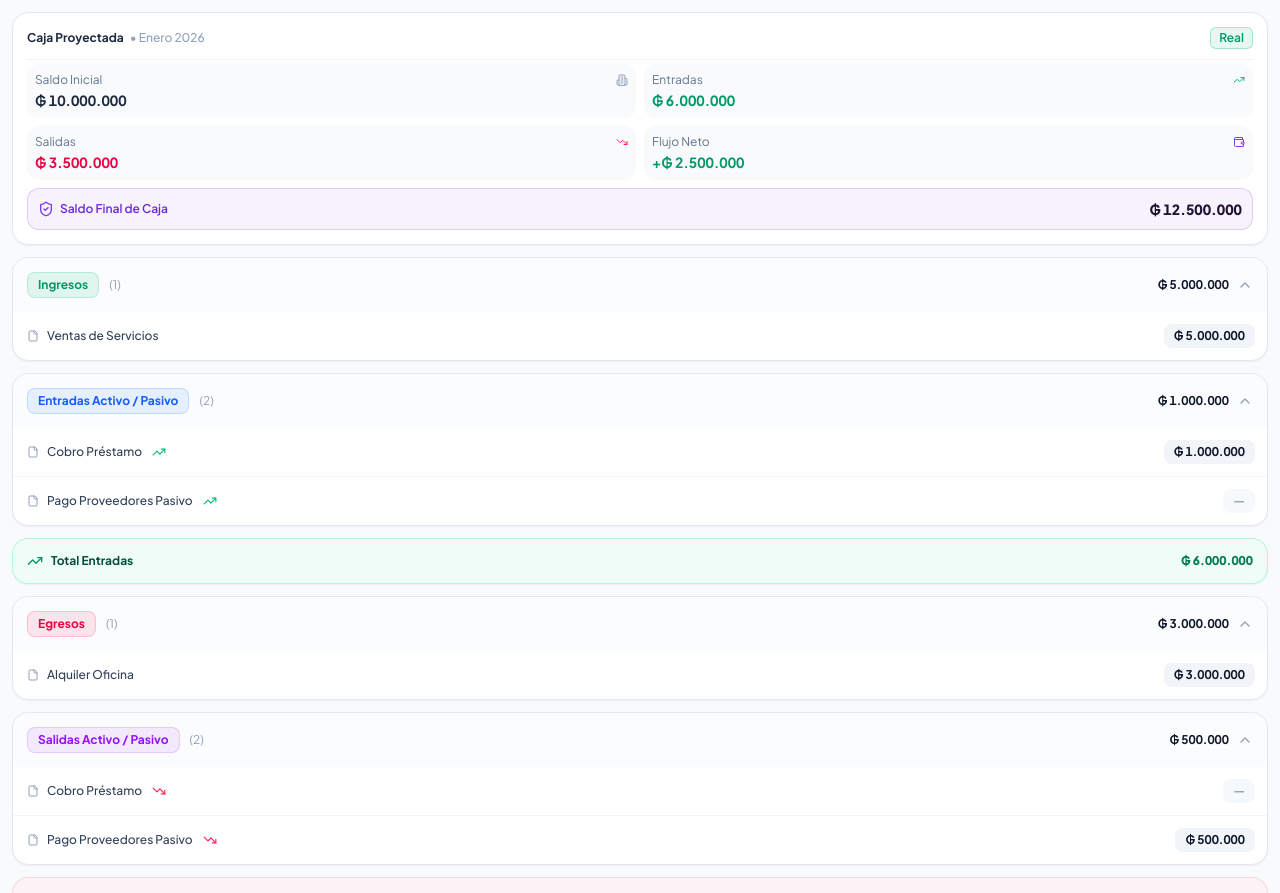
Test: ForecastMobileView Component › allows collapsing and expanding accordion sections in mobile view
Expected: the text "Ventas de Servicios" is shown, [47,328,159,344]
// Click to collapse Ingresos section
Click the text "Ingresos".
click(63, 285)  # box [27,272,99,298]
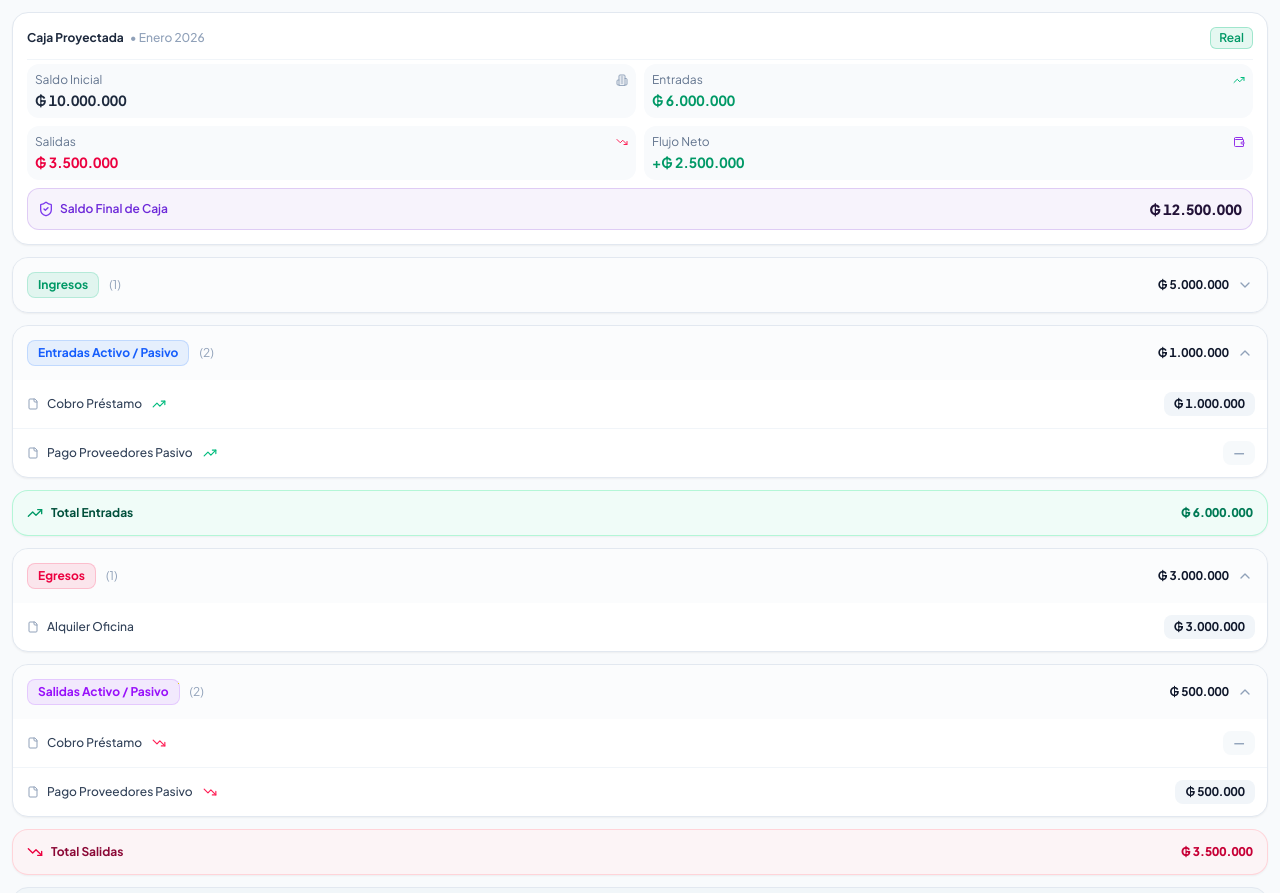
Now the text "Ventas de Servicios" is gone
// Click again to expand
Click the text "Ingresos".
click(63, 285)  # box [27,272,99,298]
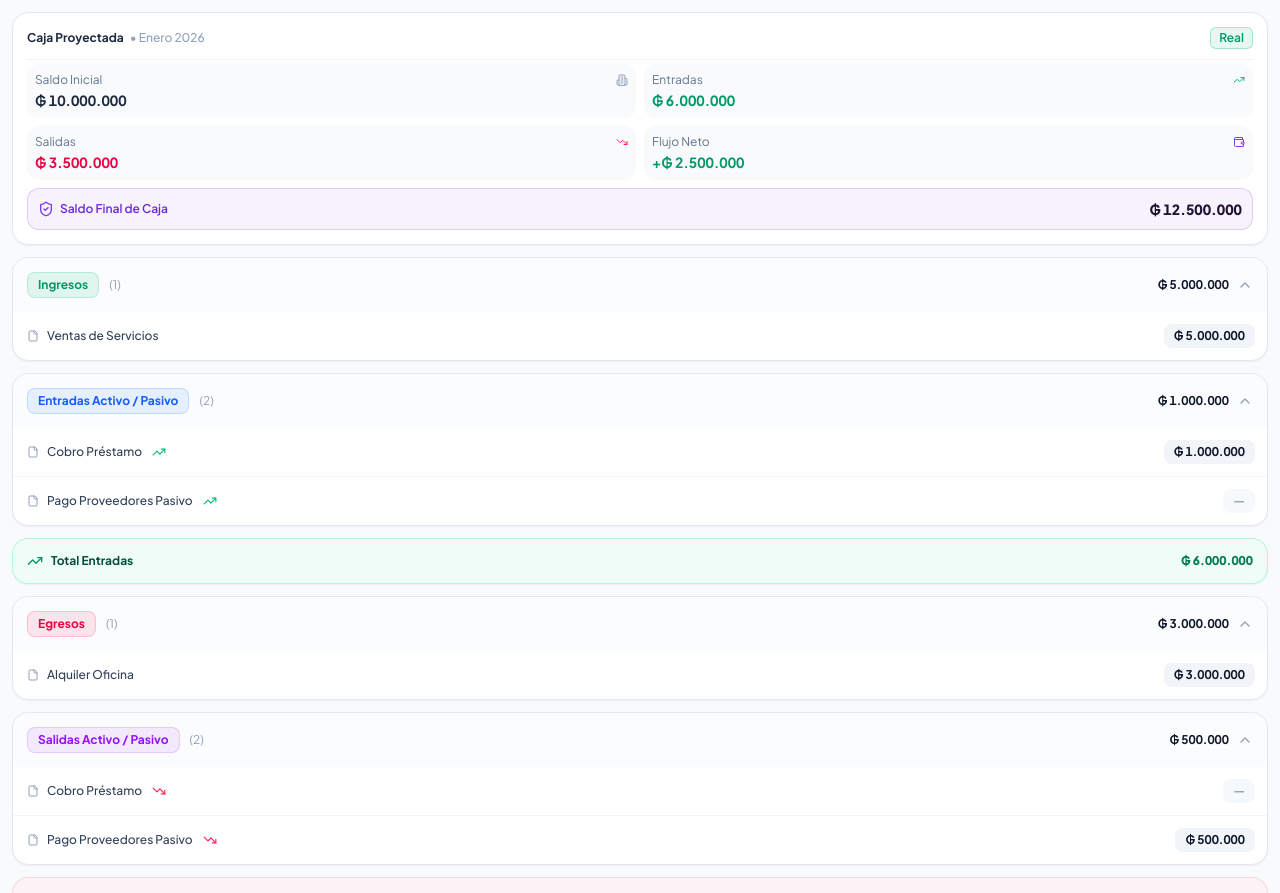
Now the text "Ventas de Servicios" is shown, box [47,328,159,344]
